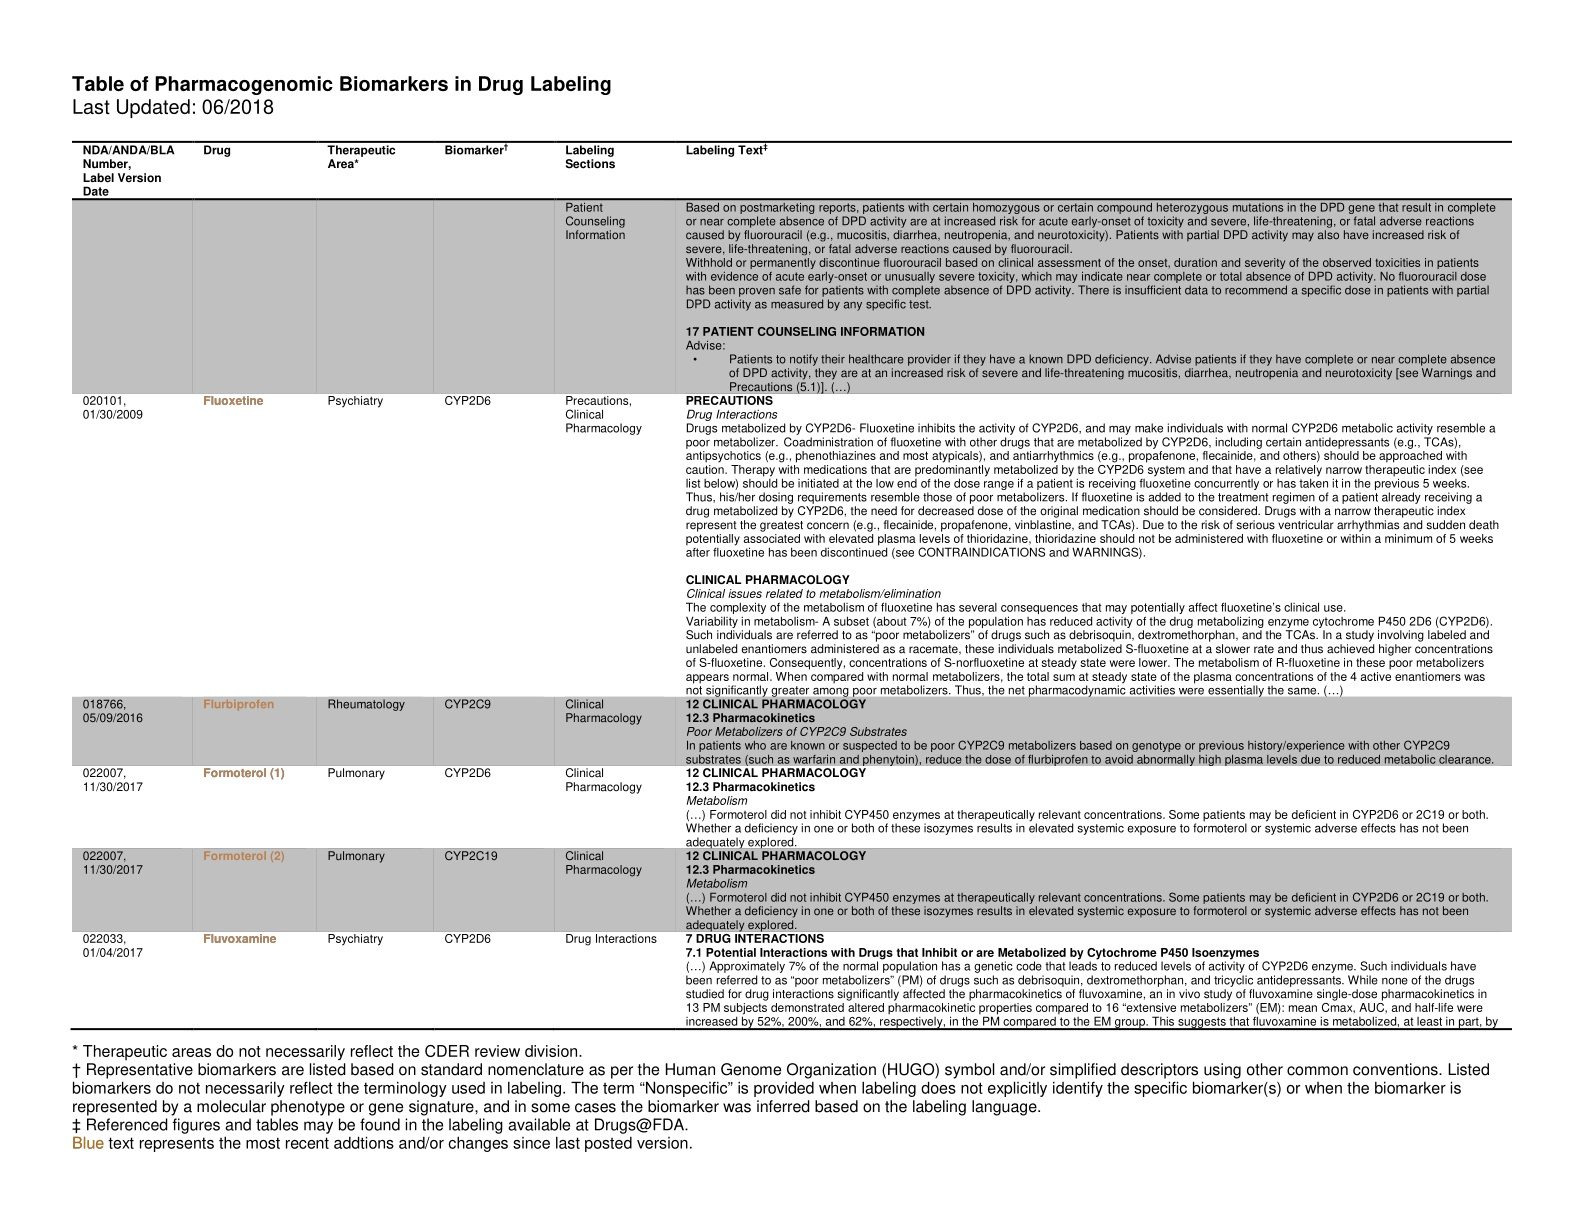partial_lined: (71, 140, 1513, 1031)
